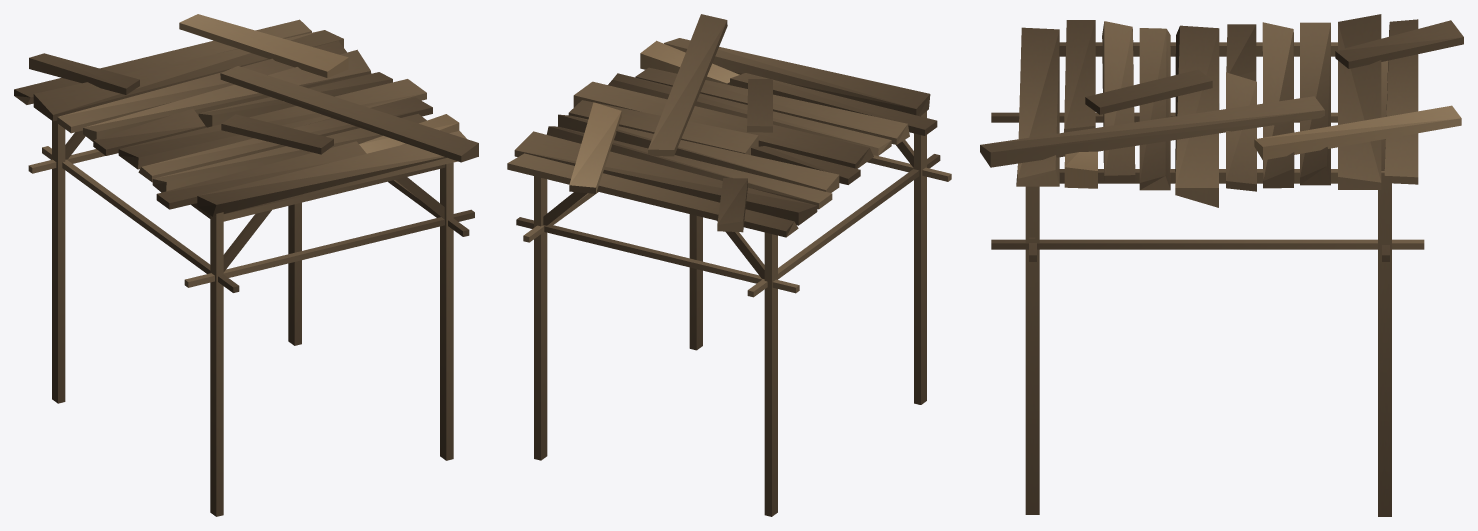
Rendered from ZLP_Build_D_49.FBX.
3 views of the same model, side by side, from view 1: azimuth 30°, elevation 25°; view 2: azimuth 150°, elevation 25°; view 3: azimuth 270°, elevation 25° (orthographic). The views are drawn at different scales.
Parts seen in each view (by area): view 1: ZLP_Build_D_49; view 2: ZLP_Build_D_49; view 3: ZLP_Build_D_49.
Boxes of the visible parts, <box> form: ZLP_Build_D_49: <box>14,14,478,516</box>; ZLP_Build_D_49: <box>507,14,951,516</box>; ZLP_Build_D_49: <box>980,14,1463,516</box>.
Bounding box in the file's own units: 323 × 328 × 391.
